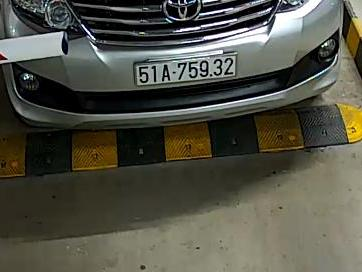number: (135, 55, 239, 87)
